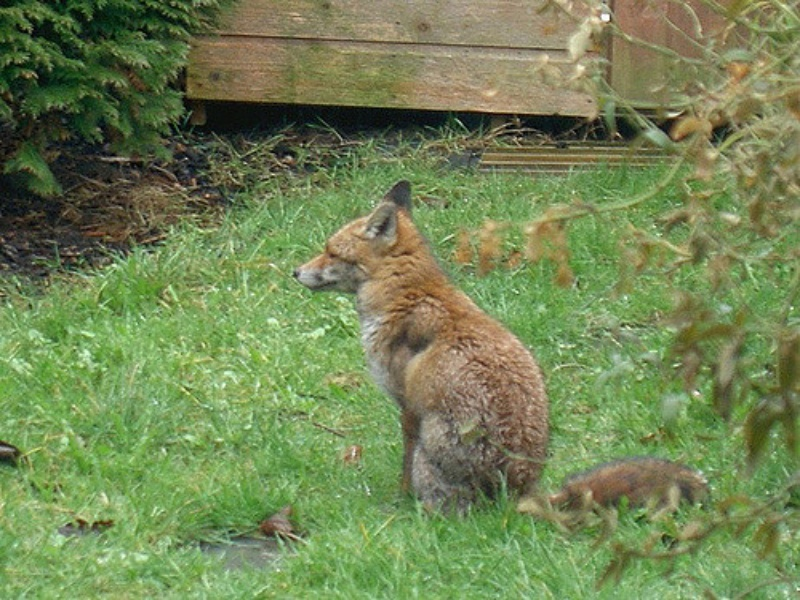fox: (290, 174, 716, 531)
